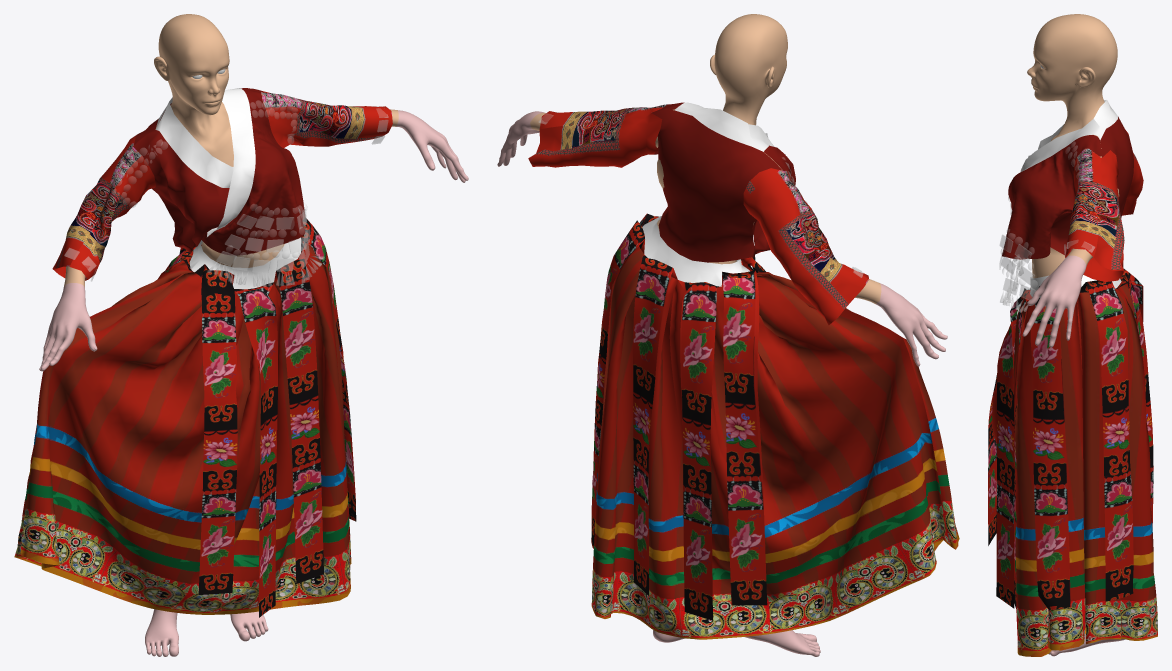
File: gril.glb
3 views of the same model, side by side, from view 1: azimuth 30°, elevation 25°; view 2: azimuth 150°, elevation 25°; view 3: azimuth 270°, elevation 25° (orthographic). The views are drawn at different scales.
Visible parts, largest first — view 1: object 10, Base_Female_A.001, object 16, object 18, object 1, object 17, object 9, object 6, object 8, object 13, object 12, object 19 (+2 smaller); view 2: object 11, object 7, object 23, Base_Female_A.001, object 22, object 9, object 21, object 8, object 20, object 15, object 10, object 14 (+1 smaller); view 3: object 11, object 10, Base_Female_A.001, object 19, object 20, object 1, object 8, object 17, object 7, object 21, object 16, object 13 (+5 smaller).
Boxes of the visible parts, x1,y1,x2,y2 form: object 10: (20, 243, 351, 614); Base_Female_A.001: (39, 14, 468, 656); object 16: (195, 264, 237, 594); object 18: (274, 254, 323, 583); object 1: (192, 88, 305, 255); object 17: (234, 282, 277, 617); object 9: (52, 134, 155, 280); object 6: (133, 130, 229, 253); object 8: (261, 91, 392, 147); object 13: (207, 88, 255, 236); object 12: (156, 102, 233, 187); object 19: (301, 217, 356, 521); object 11: (591, 246, 950, 639); object 7: (651, 109, 782, 262); object 23: (721, 270, 767, 605); Base_Female_A.001: (497, 14, 947, 656); object 22: (678, 280, 720, 620); object 9: (743, 168, 869, 325); object 21: (633, 254, 677, 595); object 8: (528, 104, 668, 167); object 20: (591, 220, 644, 548); object 15: (642, 216, 749, 286); object 10: (641, 226, 959, 550); object 14: (675, 108, 762, 151); object 11: (1077, 284, 1157, 644); object 10: (992, 300, 1085, 656); Base_Female_A.001: (1022, 14, 1125, 656); object 19: (1030, 286, 1070, 610); object 20: (1080, 280, 1133, 601); object 1: (1002, 135, 1101, 259); object 8: (1065, 148, 1124, 281); object 17: (996, 289, 1030, 608); object 7: (1050, 116, 1133, 255); object 21: (1115, 272, 1153, 526); object 16: (988, 287, 1030, 545); object 13: (1020, 119, 1100, 172).
Size of the model in its own units: 6.96 by 9.42 by 2.37.
Materials: 14 (3 with a texture image).
